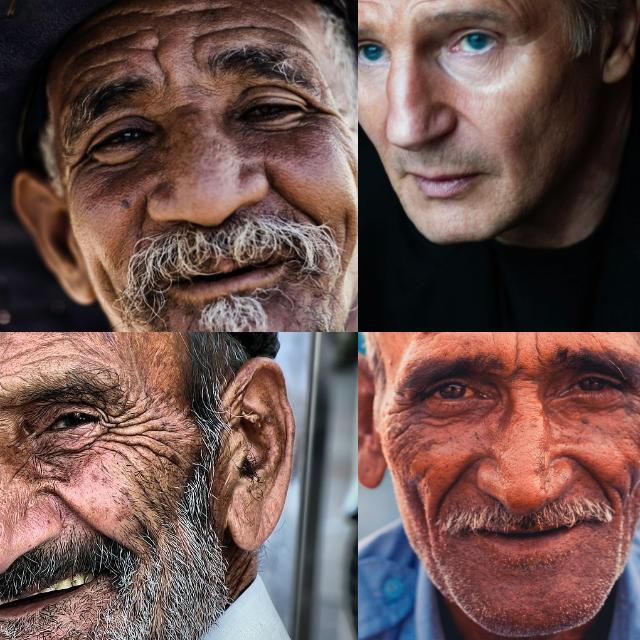bunny_line: (8, 459, 32, 485)
crows_feet: (106, 405, 144, 449), (382, 398, 420, 440), (297, 96, 339, 130), (63, 146, 101, 178), (631, 384, 640, 426)
forehead: (3, 340, 65, 364), (168, 1, 236, 21), (98, 24, 148, 48), (78, 58, 132, 74), (208, 19, 260, 35), (495, 0, 529, 20)
frown_line: (508, 332, 542, 377), (150, 46, 173, 84), (185, 32, 202, 62)
gummy_smile: (561, 452, 621, 500), (421, 457, 473, 511), (48, 488, 98, 542), (272, 178, 324, 220), (134, 202, 150, 242)
masseter: (406, 482, 438, 548), (132, 474, 170, 524), (98, 262, 122, 304), (622, 459, 640, 510), (336, 202, 356, 245)
